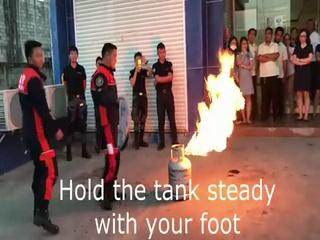Fire: (185, 54, 253, 157)
